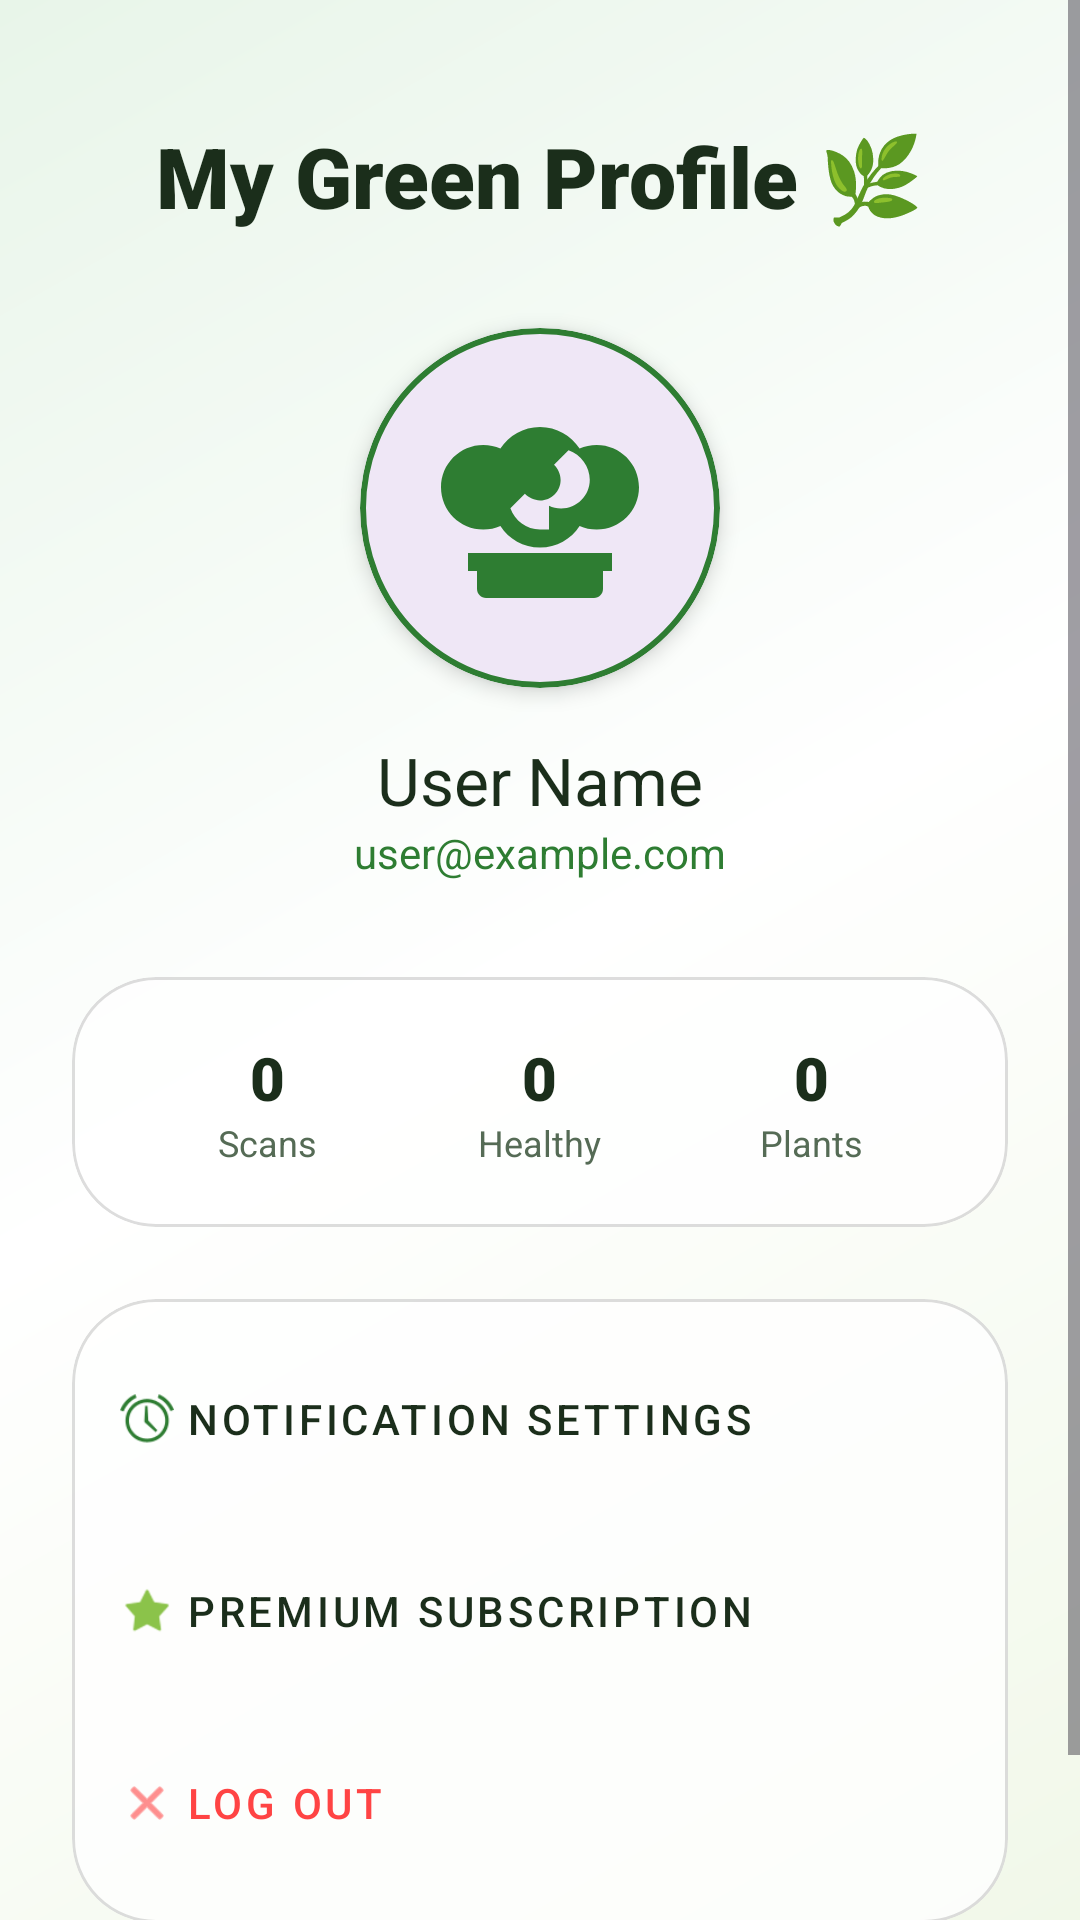

Icon click points for this 1080w x 1920h phone screenshot, format (x=x, y=y):
garden: (x=540, y=508)
